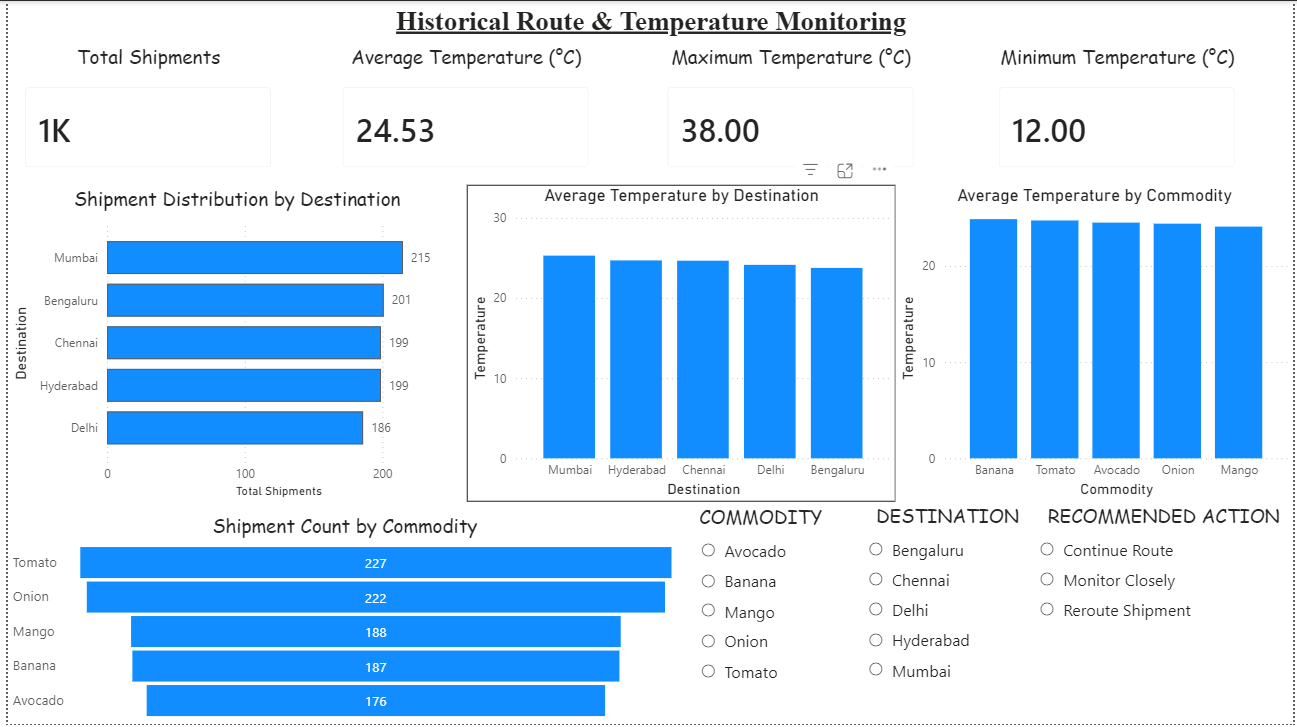

The dashboard page shown, as its layout file describes it:
{"tool":"powerbi","page":{"name":"Historical Route & Environmental Monitoring","canvas":[1280,720],"ordinal":1},"visuals":[{"type":"cardVisual","title":"Total Shipments","fields":{"Data":["CountNonNull(AtmoSync_Analytics_Dataset.Container_ID)"]},"box":[0,42.3,279.9,140.6],"z":0},{"type":"textbox","box":[0,0,1280,42.3],"z":1000},{"type":"cardVisual","title":"Average Temperature (°C)","fields":{"Data":["Avg(AtmoSync_Analytics_Dataset.Temperature_C)"]},"box":[316,42.3,279.9,140.6],"z":2000},{"type":"cardVisual","title":"Maximum Temperature (°C)","fields":{"Data":["Max(AtmoSync_Analytics_Dataset.Temperature_C)"]},"box":[639.4,42.3,279.9,140.6],"z":3000},{"type":"cardVisual","title":"Minimum Temperature (°C)","fields":{"Data":["Min(AtmoSync_Analytics_Dataset.Temperature_C)"]},"box":[969,42.3,269.9,140.6],"z":4000},{"type":"clusteredBarChart","title":"Shipment Distribution by Destination","fields":{"Category":["AtmoSync_Analytics_Dataset.Destination"],"Y":["CountNonNull(AtmoSync_Analytics_Dataset.Container_ID)"]},"box":[0,182.5,456.2,316.2],"z":5000},{"type":"clusteredColumnChart","title":"Average Temperature by Destination","fields":{"Category":["AtmoSync_Analytics_Dataset.Destination"],"Y":["Avg(AtmoSync_Analytics_Dataset.Temperature_C)"]},"box":[456.2,182.5,427.5,316.2],"z":6000},{"type":"clusteredColumnChart","title":"Average Temperature by Commodity","fields":{"Category":["AtmoSync_Analytics_Dataset.Commodity"],"Y":["Avg(AtmoSync_Analytics_Dataset.Temperature_C)"]},"box":[883.8,182.5,396.2,316.2],"z":7000},{"type":"funnel","title":"Shipment Count by Commodity","fields":{"Category":["ATMOSYNC_DATA.COMMODITY"],"Y":["CountNonNull(ATMOSYNC_DATA.DESTINATION)"]},"box":[0,508.8,670.5,211.5],"z":8000},{"type":"listSlicer","fields":{"Values":["ATMOSYNC_DATA.DESTINATION"]},"box":[849.6,498.8,170.4,187.8],"z":9000},{"type":"listSlicer","fields":{"Values":["ATMOSYNC_DATA.COMMODITY"]},"box":[682.9,500.1,150.5,187.8],"z":10000},{"type":"listSlicer","title":"RECOMMENDED ACTION","fields":{"Values":["ATMOSYNC_DATA.RECOMMENDED_ACTION"]},"box":[1020,498.8,260,131.9],"z":11000}]}

Visuals, with their boxes in screenshot pixels (x1, y1, x2, y2), scaled from the page's 1280x720 canvas onto the 1297x727 screenshot:
"Total Shipments" cardVisual: bbox=[0, 43, 284, 185]
textbox: bbox=[0, 0, 1296, 43]
"Average Temperature (°C)" cardVisual: bbox=[320, 43, 604, 185]
"Maximum Temperature (°C)" cardVisual: bbox=[648, 43, 932, 185]
"Minimum Temperature (°C)" cardVisual: bbox=[982, 43, 1255, 185]
"Shipment Distribution by Destination" clusteredBarChart: bbox=[0, 184, 462, 504]
"Average Temperature by Destination" clusteredColumnChart: bbox=[462, 184, 895, 504]
"Average Temperature by Commodity" clusteredColumnChart: bbox=[896, 184, 1296, 504]
"Shipment Count by Commodity" funnel: bbox=[0, 514, 679, 726]
listSlicer - ATMOSYNC_DATA.DESTINATION: bbox=[861, 504, 1034, 693]
listSlicer - ATMOSYNC_DATA.COMMODITY: bbox=[692, 505, 844, 695]
"RECOMMENDED ACTION" listSlicer: bbox=[1034, 504, 1296, 637]
